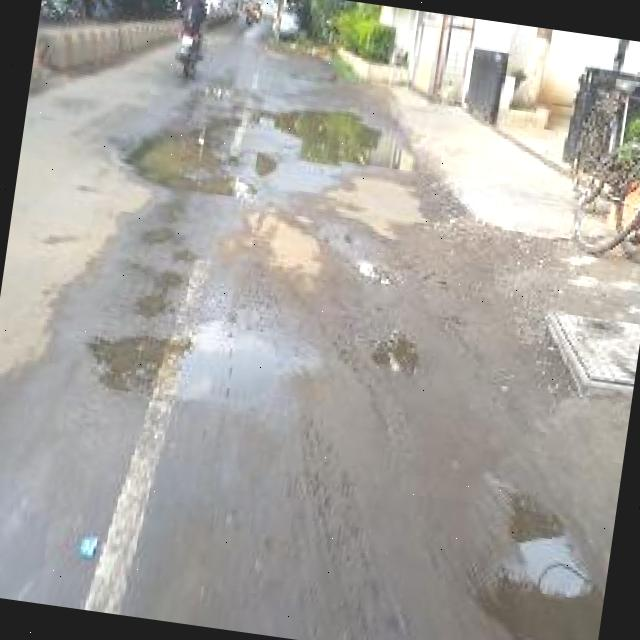stagnation: (145, 76, 377, 212)
